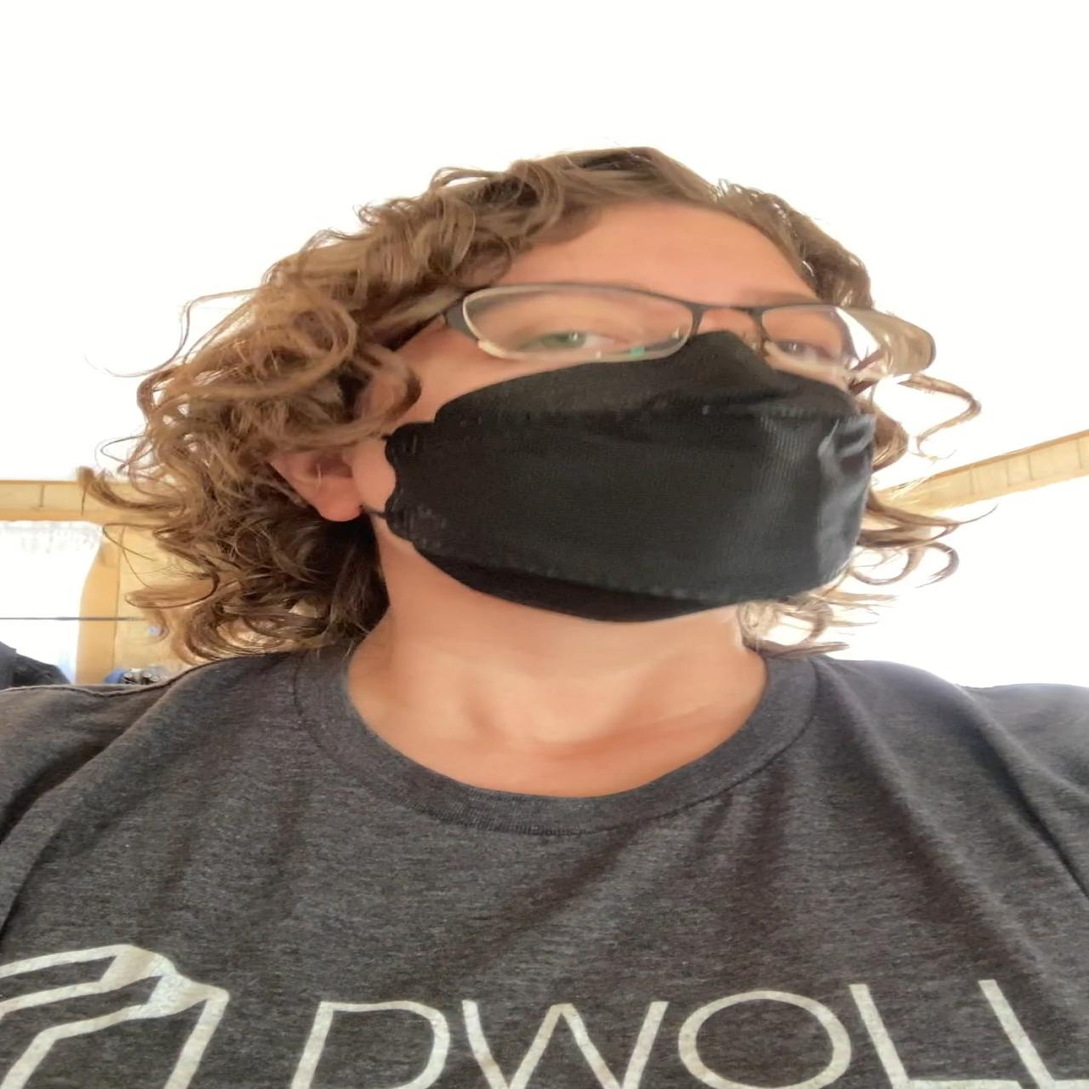NO_Safety_Vest: (0, 645, 1089, 1089)
Person: (0, 140, 1089, 1089)
